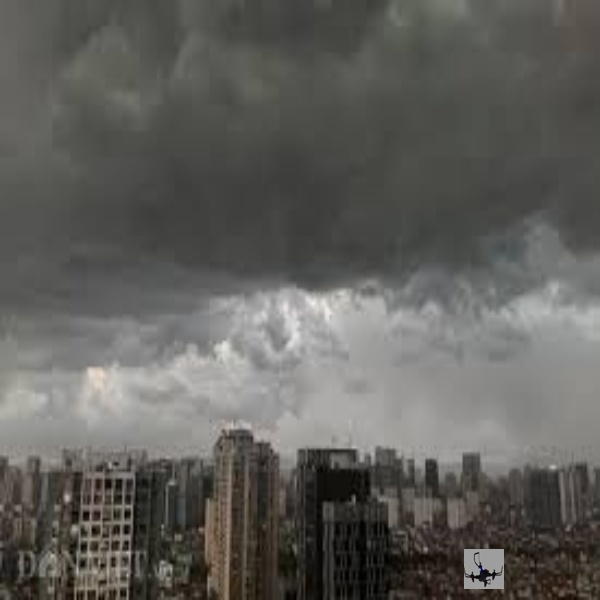drone: (463, 551, 502, 587)
